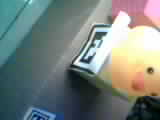duck: (109, 22, 158, 101)
